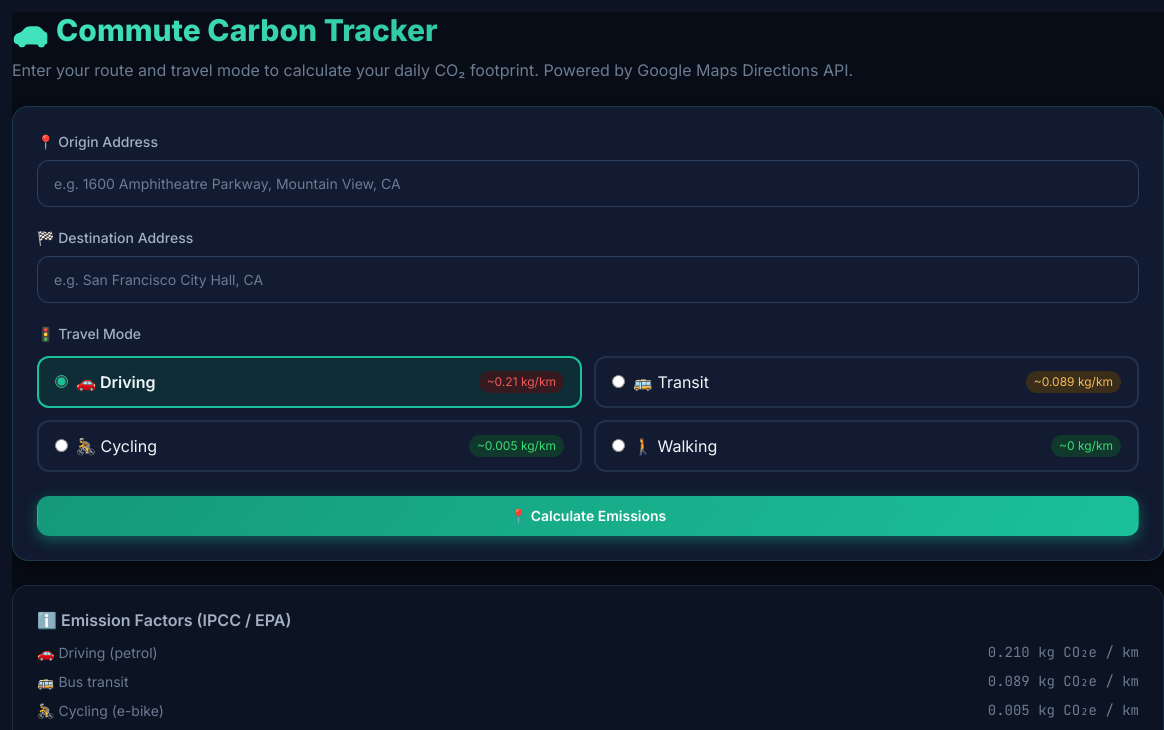
Scenario: CommutePage › can switch travel mode via radio button
Click the radio button showing "TRANSIT" at (618, 382), box [612,375,625,388]
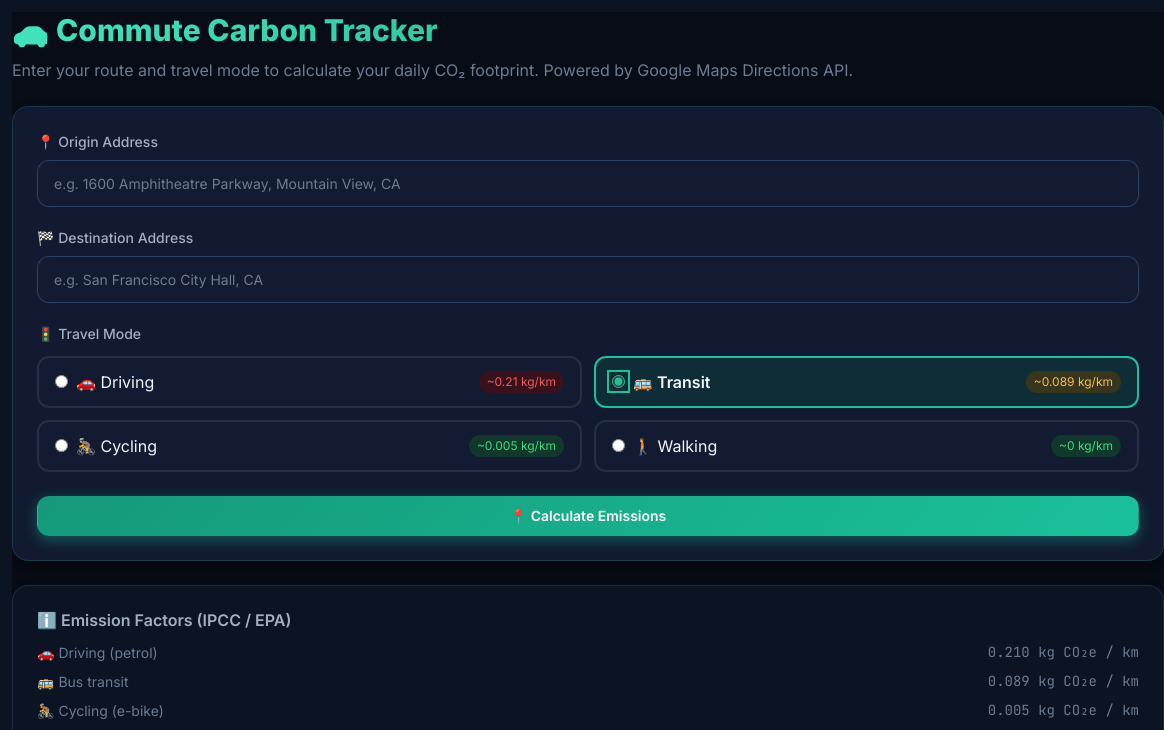
Expected: the radio button showing "TRANSIT" is checked, [612,375,625,388]
Expected: the radio button showing "DRIVING" is not checked, [55,375,68,388]
